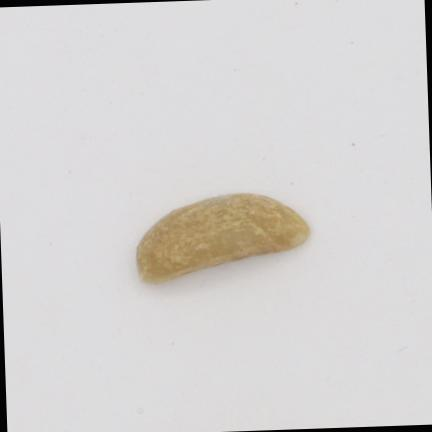shell: (137, 194, 309, 283)
